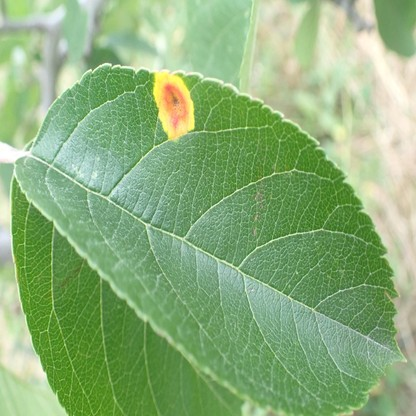rust: (153, 72, 194, 138)
